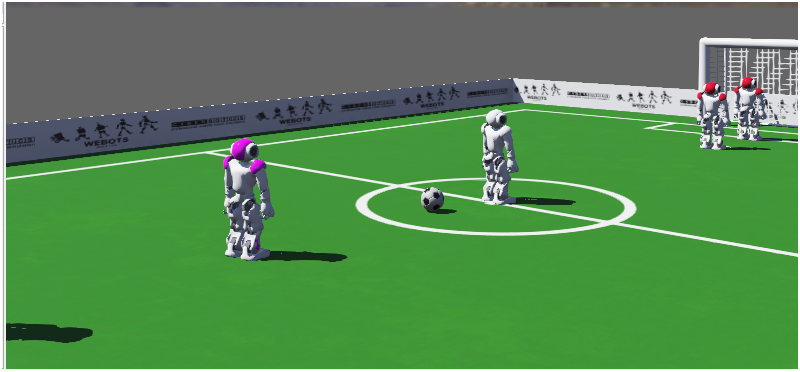Ball: (413, 173, 455, 238)
Goal: (681, 24, 800, 117)
Player: (212, 127, 280, 267), (471, 100, 525, 203), (733, 70, 765, 150), (691, 79, 726, 146)
